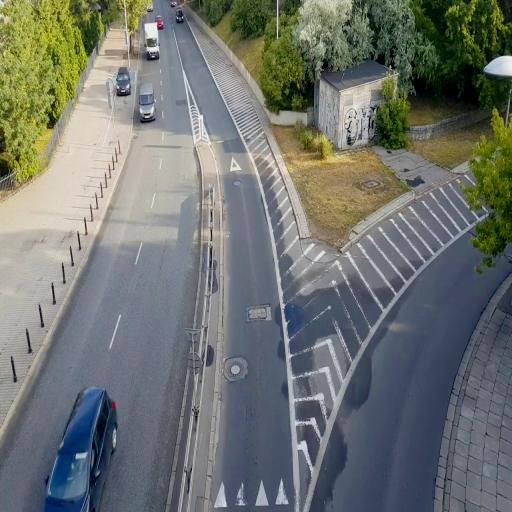vehicle: (43, 386, 118, 512), (141, 19, 161, 61), (138, 80, 156, 122), (114, 67, 132, 96)
